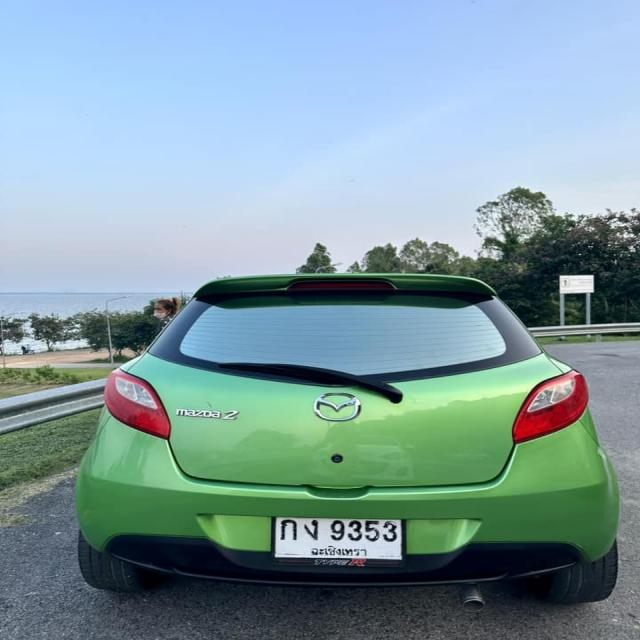license_plate: (272, 516, 408, 563)
